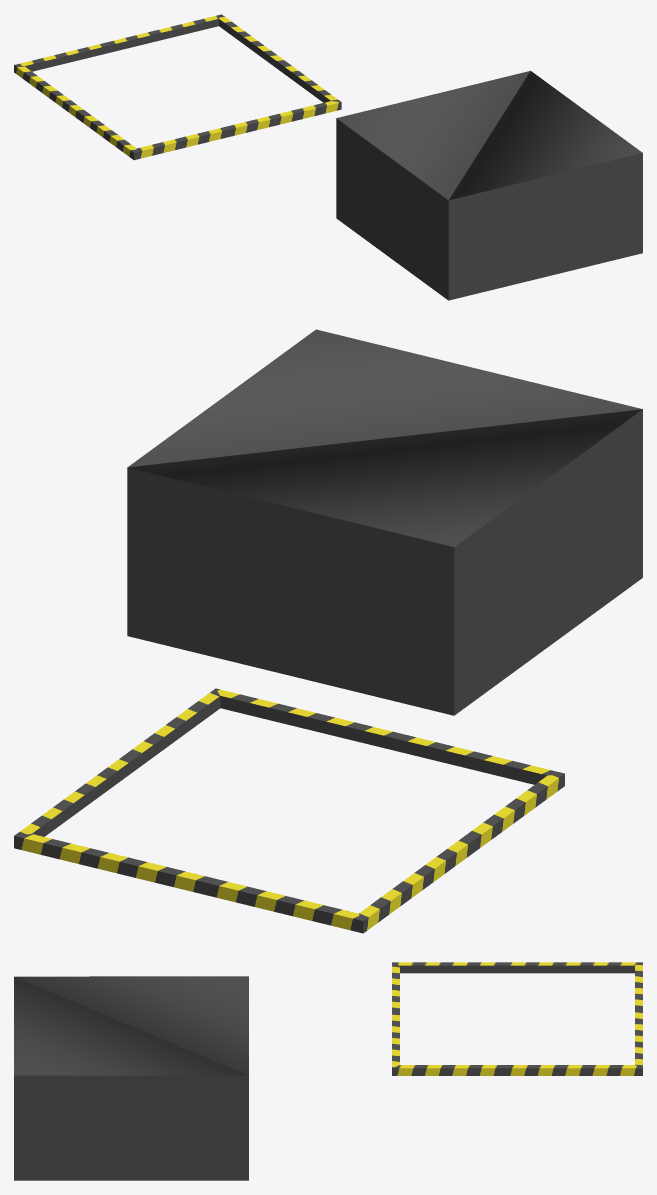
File: SquareFrame_3D.fbx
The picture shows the model from 3 angles, top to bottom: view 1: azimuth 30°, elevation 25°; view 2: azimuth 150°, elevation 25°; view 3: azimuth 270°, elevation 25°; orthographic projection. The views are drawn at different scales.
Visible parts, largest first — view 1: PODLOGA_ZUTE_LINIJE.001, PODLOGA_ZUTE_LINIJE; view 2: PODLOGA_ZUTE_LINIJE.001, PODLOGA_ZUTE_LINIJE; view 3: PODLOGA_ZUTE_LINIJE.001, PODLOGA_ZUTE_LINIJE.
Boxes of the visible parts, x1=… form: PODLOGA_ZUTE_LINIJE.001: x1=336, y1=70, x2=642, y2=300; PODLOGA_ZUTE_LINIJE: x1=14, y1=14, x2=341, y2=160; PODLOGA_ZUTE_LINIJE.001: x1=127, y1=329, x2=642, y2=715; PODLOGA_ZUTE_LINIJE: x1=14, y1=688, x2=564, y2=933; PODLOGA_ZUTE_LINIJE.001: x1=14, y1=976, x2=248, y2=1180; PODLOGA_ZUTE_LINIJE: x1=392, y1=962, x2=642, y2=1075.
Bounding box in the file's own units: 2186 × 638 × 3462.
